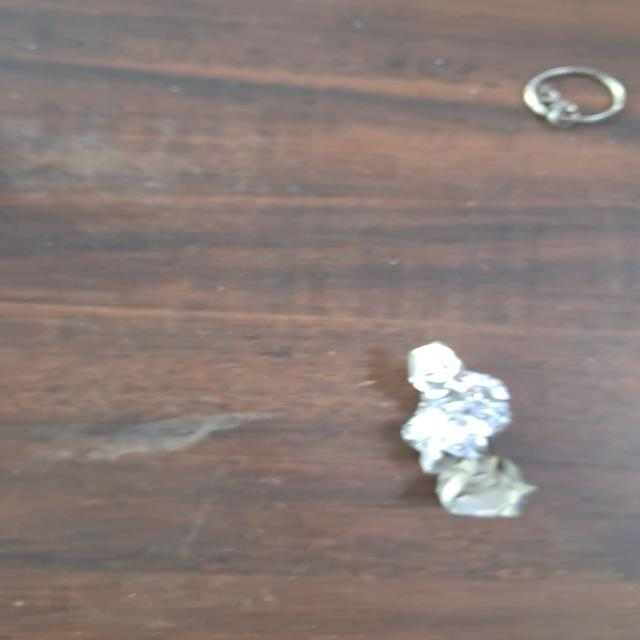Anorganik: (398, 343, 540, 518), (519, 64, 627, 135)
